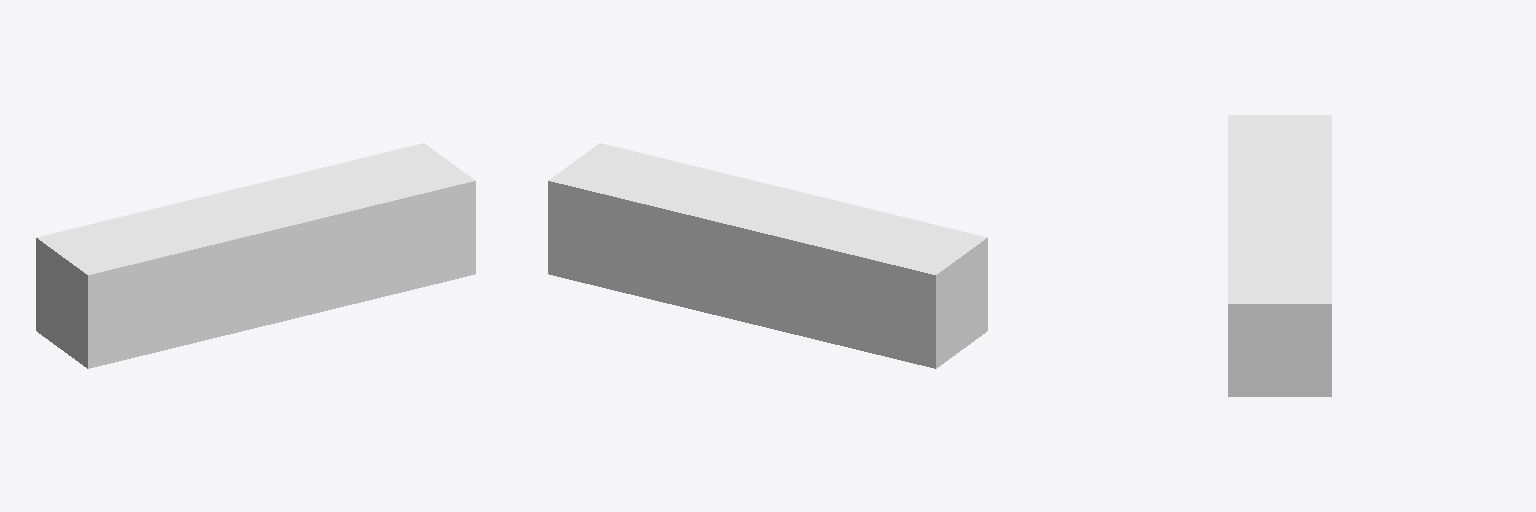
The model's file is Gun1-5.obj.
The picture shows the model from 3 angles: view 1: azimuth 30°, elevation 25°; view 2: azimuth 150°, elevation 25°; view 3: azimuth 270°, elevation 25°; orthographic projection.
Visible parts, largest first — view 1: object 1; view 2: object 1; view 3: object 1.
Part boxes in pixels (x1,y1,x2,y2): object 1: (36,143,475,368); object 1: (548,143,987,368); object 1: (1228,115,1331,396).
Size of the model in its own units: 2.6 by 0.6 by 0.6.